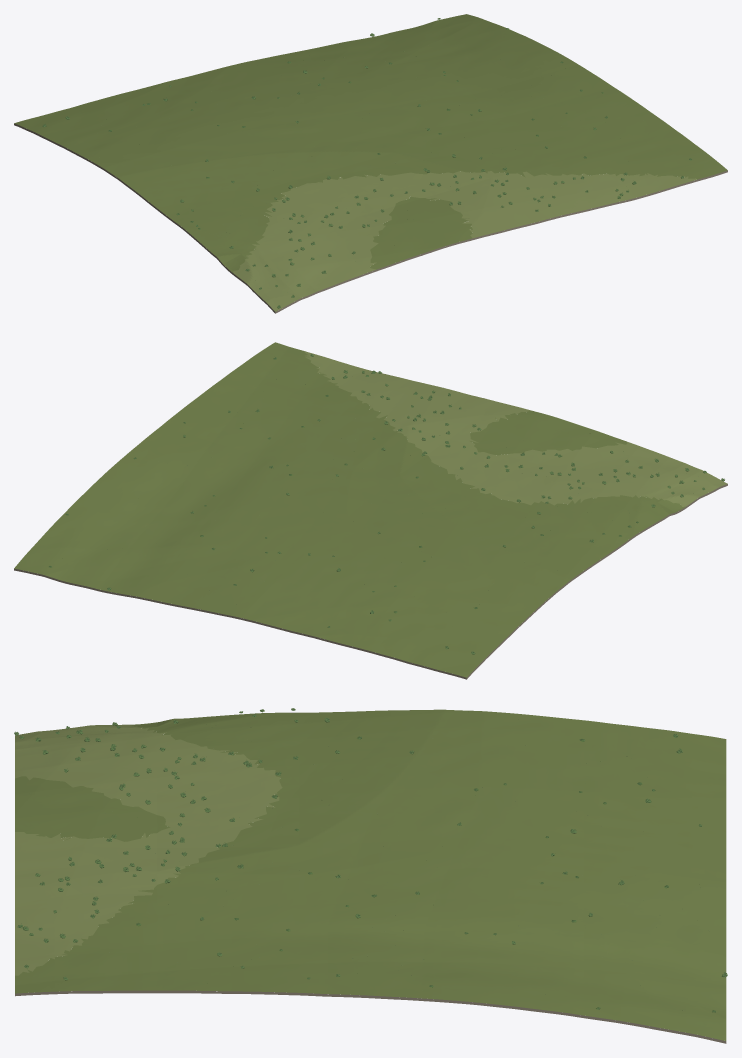
Rendered from parca_+6_+0-yakin.glb.
3 renders of one model, top to bottom at view 1: azimuth 30°, elevation 25°; view 2: azimuth 150°, elevation 25°; view 3: azimuth 270°, elevation 25°, orthographic. The views are drawn at different scales.
Visible parts, largest first — view 1: parca_+6_+0_arazi, parca_+6_+0_bitkiler; view 2: parca_+6_+0_arazi, parca_+6_+0_bitkiler; view 3: parca_+6_+0_arazi, parca_+6_+0_bitkiler.
Part boxes in pixels (x1=…): parca_+6_+0_arazi: x1=14, y1=14, x2=727, y2=313; parca_+6_+0_bitkiler: x1=42, y1=18, x2=692, y2=308; parca_+6_+0_arazi: x1=14, y1=342, x2=727, y2=679; parca_+6_+0_bitkiler: x1=49, y1=354, x2=724, y2=654; parca_+6_+0_arazi: x1=15, y1=709, x2=726, y2=1043; parca_+6_+0_bitkiler: x1=14, y1=708, x2=727, y2=1012.
Size of the model in its own units: 1000 by 87.52 by 1004.
